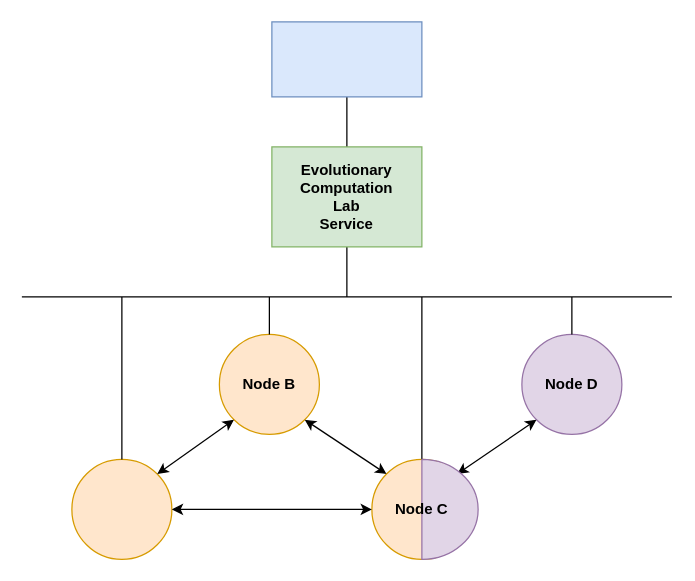
This 695x581 diagram has some shape labels left out. The shapes that lost their labels are listed below. From the top down, each one's box as (x1, y1, x2, y2) in pixels, then its label:
(271, 21, 422, 97): Evolutionary Computation UI
(71, 458, 172, 559): Node A
